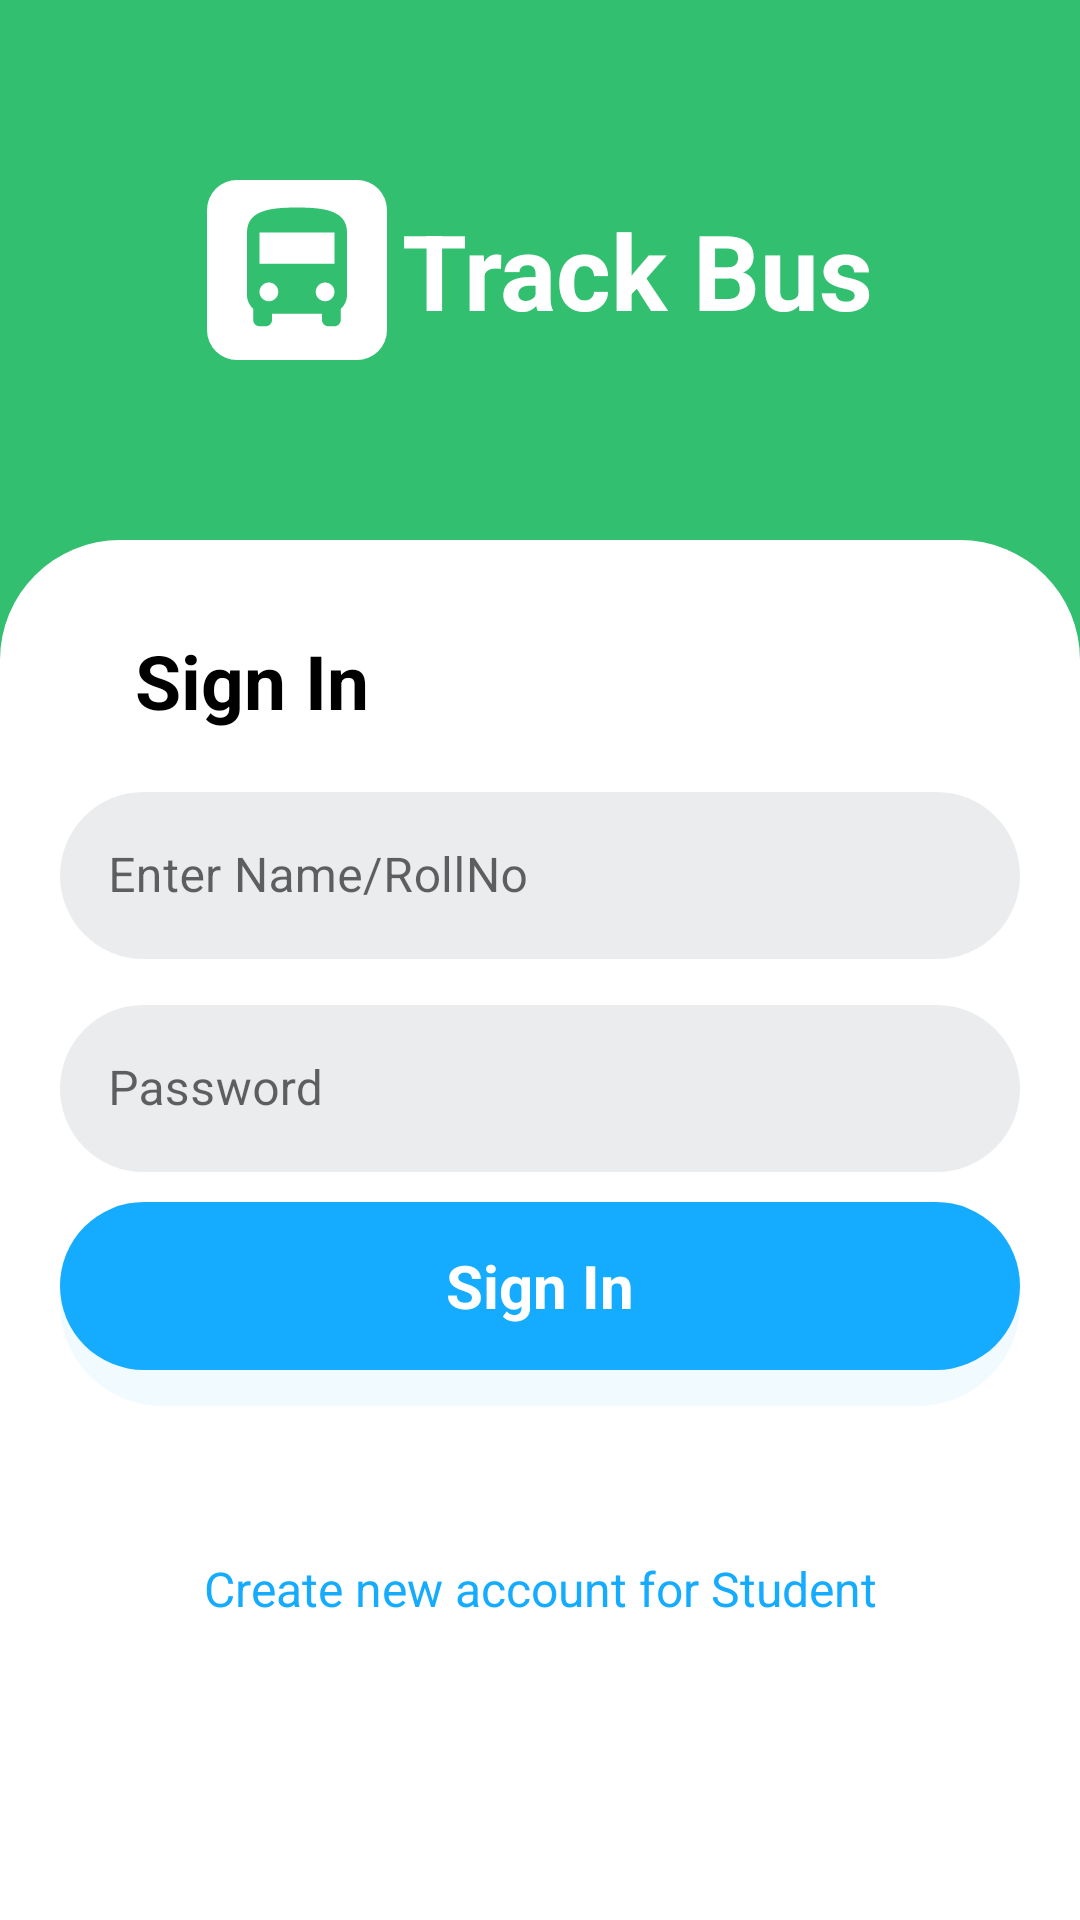

Point at icon controls on the screen. Image size 1080px x 1920px, points as point (x, y).
directions bus: point (297, 267)
